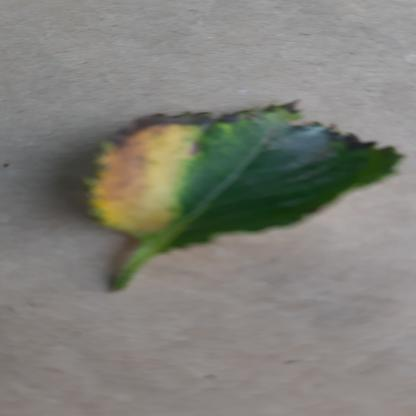black-spot: (91, 100, 398, 244)
